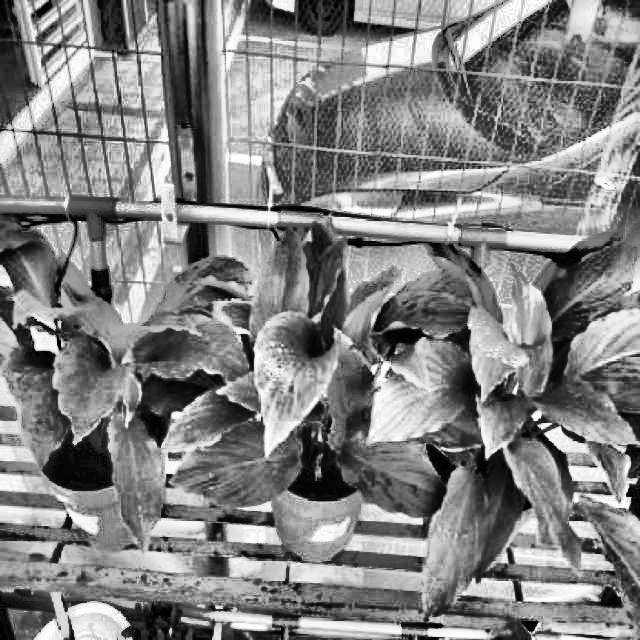plants: (370, 212, 638, 638), (0, 214, 254, 562), (160, 212, 448, 518)
